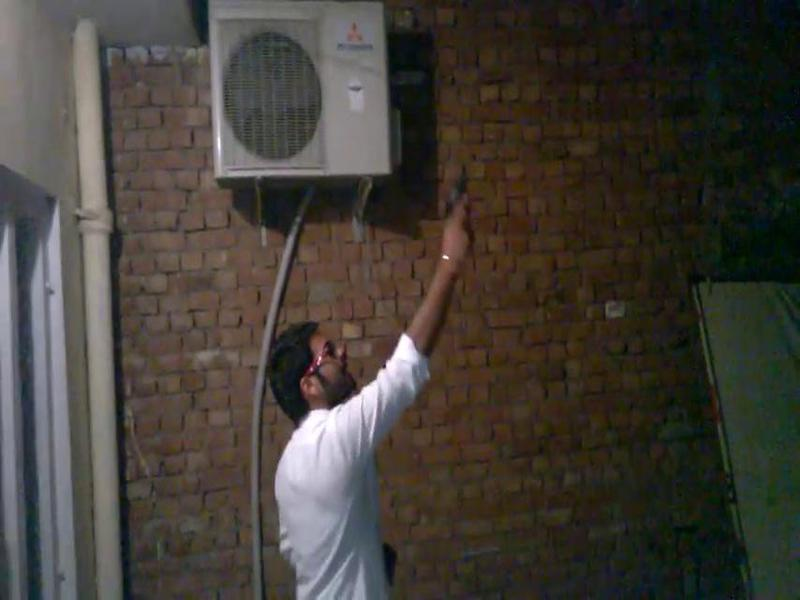Revolver: (433, 146, 503, 266)
